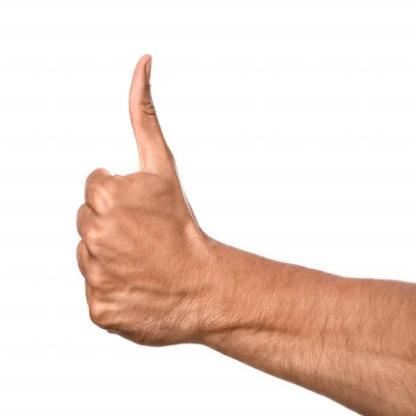thumb_up: (72, 48, 210, 350)
